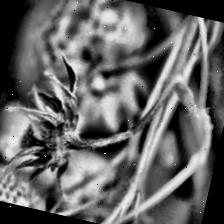Gray Mold: (0, 44, 135, 205)
